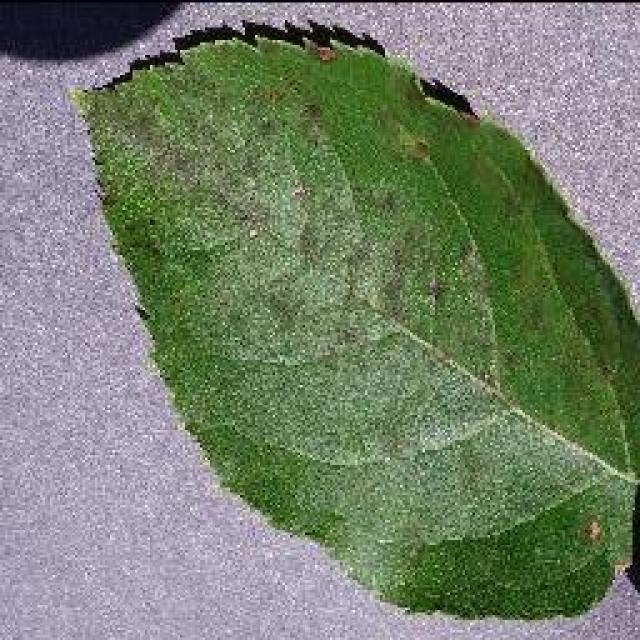apple scab disease: (65, 15, 637, 623)
